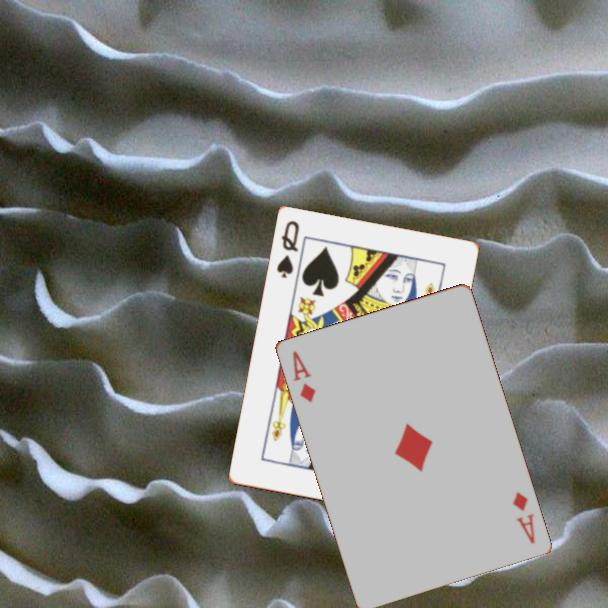d01: (288, 347, 318, 406), (508, 488, 537, 547)
s12: (273, 217, 302, 282)
